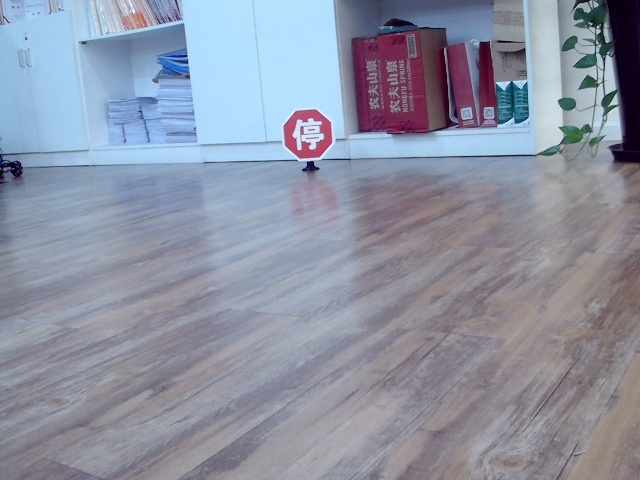stop: (289, 115, 323, 148)
